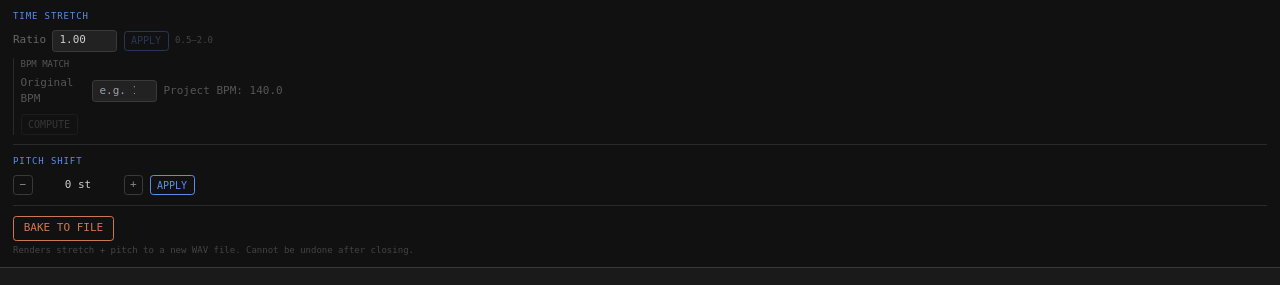
Test case: StretchPanel › Apply button is enabled when ratio differs from current store ratio
Note: Change ratio to 1.5
Replace the text in the number field with test id "stretch-ratio-input" with "1.5" at (84, 41), box [52,30,117,52]
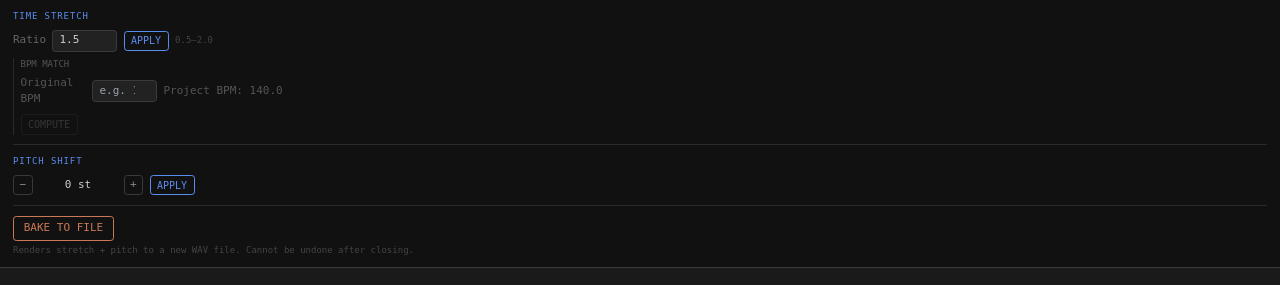
Expected: the button with test id "btn-apply-stretch" is enabled, [124,30,169,51]
